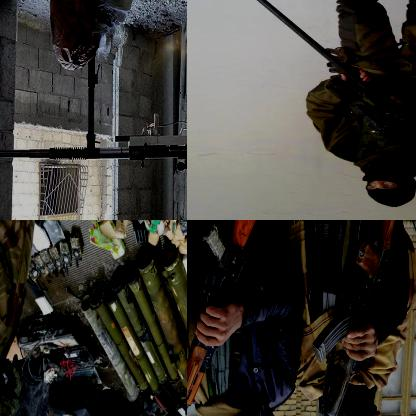rifle: (215, 0, 415, 172), (296, 220, 415, 415), (187, 220, 287, 415)
